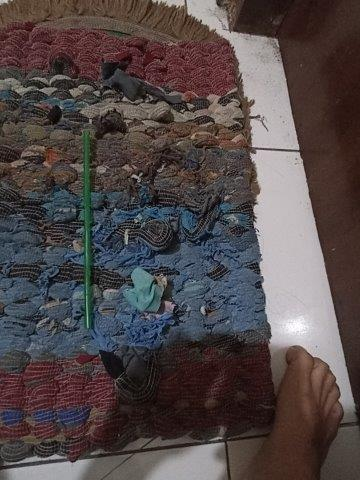sedotan: (83, 133, 91, 329)
